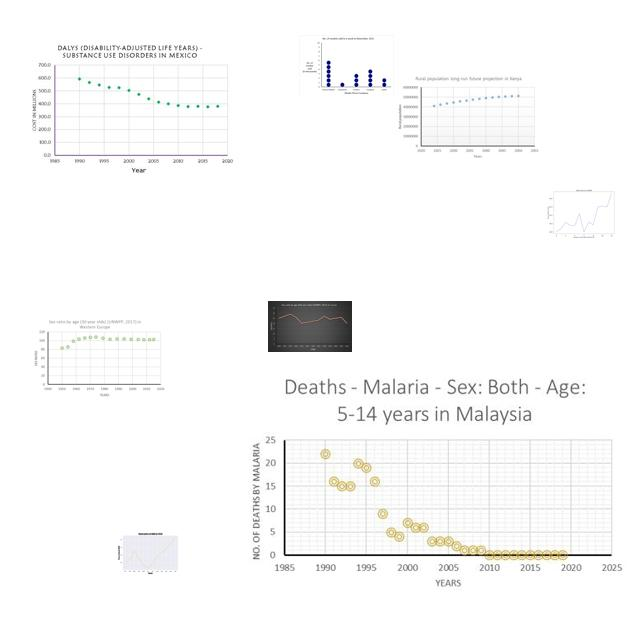Graph: (243, 372, 628, 594), (28, 42, 236, 176), (398, 76, 539, 159), (31, 318, 166, 397), (299, 35, 394, 97), (543, 185, 623, 240), (268, 301, 352, 352), (114, 528, 185, 577)
